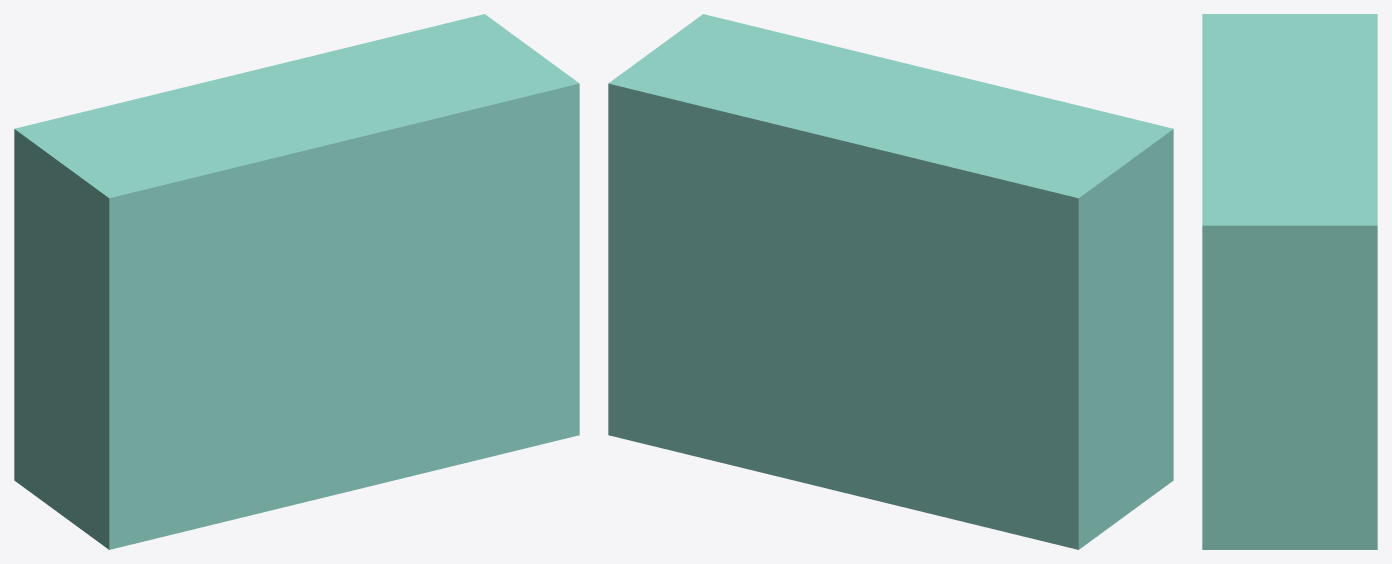
Rendered from baracade_police.dae.
The picture shows the model from 3 angles, left to right: view 1: azimuth 30°, elevation 25°; view 2: azimuth 150°, elevation 25°; view 3: azimuth 270°, elevation 25°; orthographic projection. The views are drawn at different scales.
Visible parts, largest first — view 1: bounds; view 2: bounds; view 3: bounds.
Boxes of the visible parts, box(x1,y1,x2,y2) form: bounds: box(14, 14, 579, 549); bounds: box(608, 14, 1173, 549); bounds: box(1202, 14, 1377, 549).
Size of the model in its own units: 149 by 52.25 by 107.
